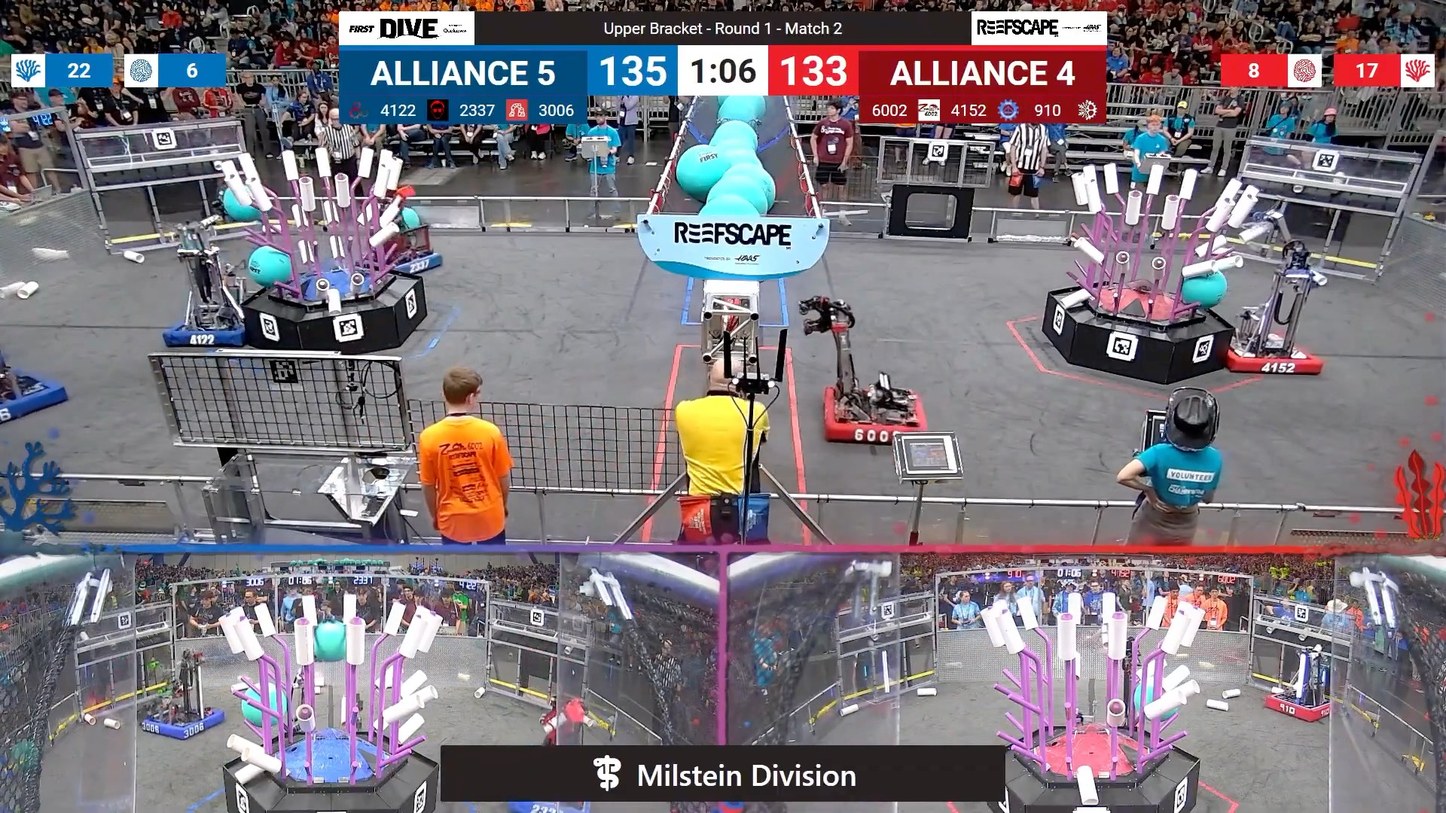bumpers: (810, 382, 931, 449), (1215, 327, 1329, 381), (0, 366, 75, 436), (132, 703, 232, 744), (163, 303, 252, 349), (367, 244, 449, 279), (1258, 690, 1342, 724)
